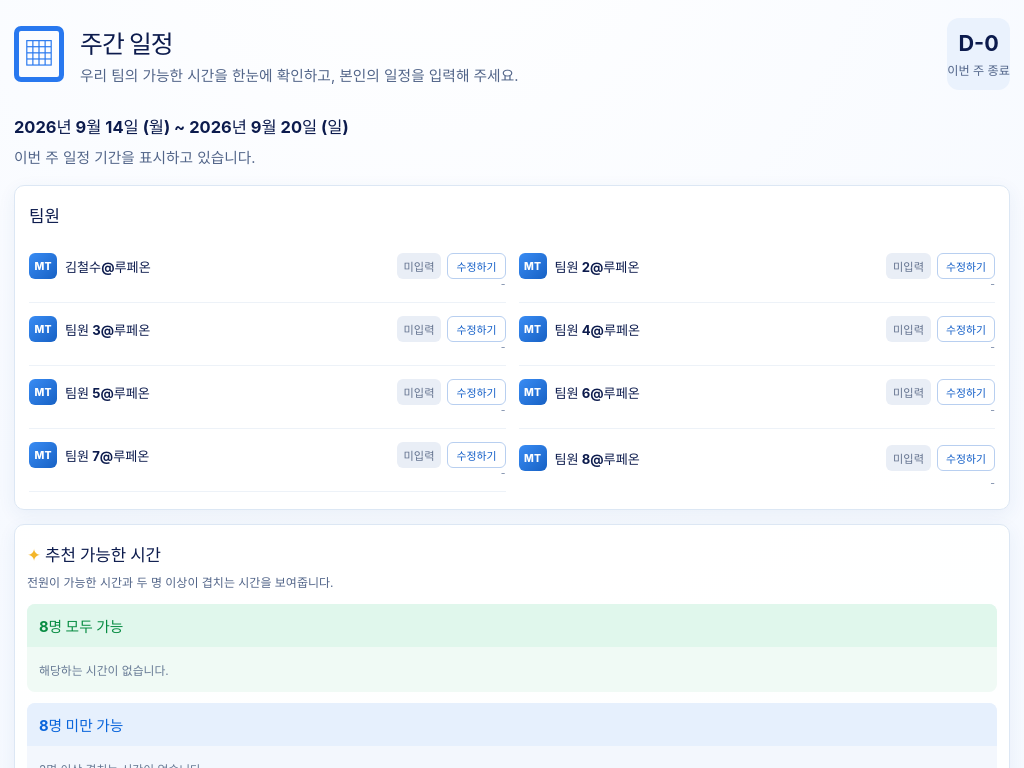
Test: SchedulePage › 팀원의 수정하기 버튼으로 일정 편집 화면을 연다
What coordinates should you click on to do the following:
click the button "수정하기" in the row of "김철수"
I would click on:
 (476, 266)
Its box is x1=448 y1=253 x2=506 y2=279.
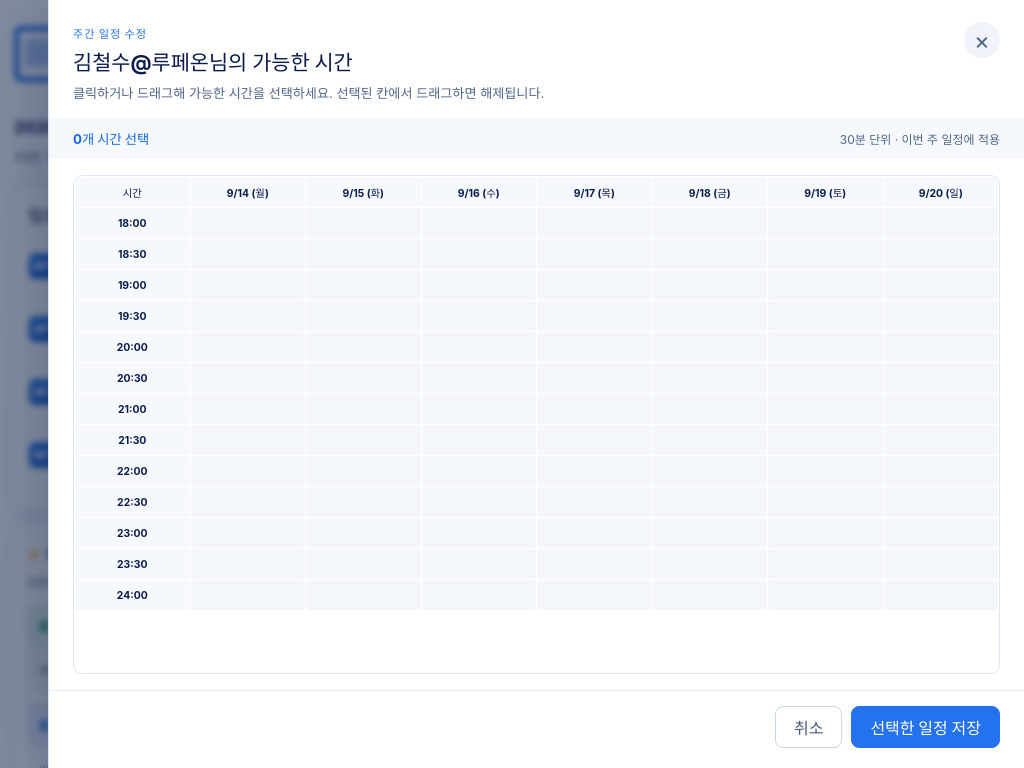
Check: the dialog "김철수@루페온님의 가능한 시간" is shown
Check: the button "선택한 일정 저장" is shown, box x1=851 y1=706 x2=1000 y2=748
